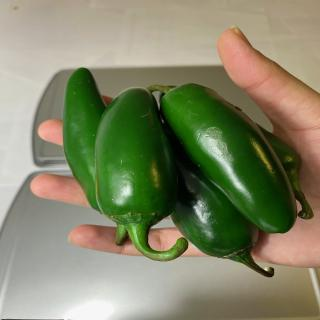Chilli: (61, 68, 313, 276), (156, 82, 300, 234), (93, 86, 187, 261), (169, 154, 274, 278)
